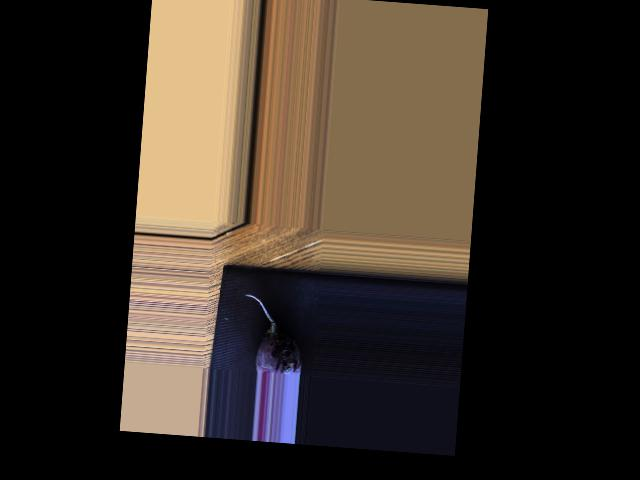beet: (239, 293, 306, 375)
